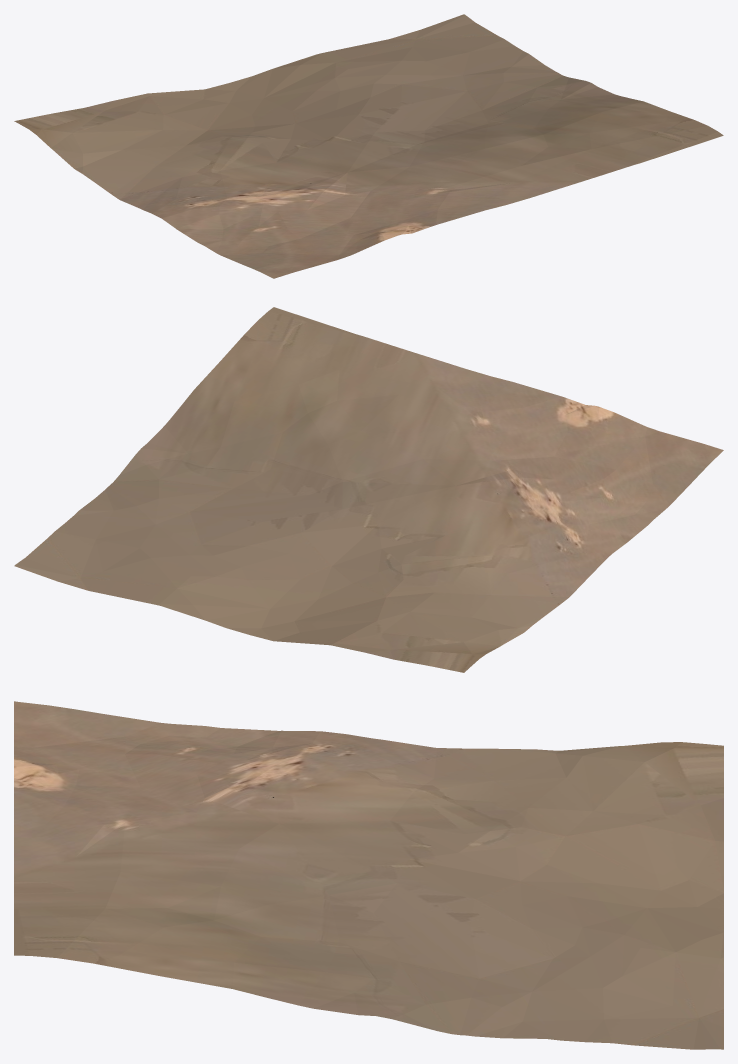
The picture shows the model from 3 angles, top to bottom: view 1: azimuth 30°, elevation 25°; view 2: azimuth 150°, elevation 25°; view 3: azimuth 270°, elevation 25°; orthographic projection. The views are drawn at different scales.
Size of the model in its own units: 1.04 by 0.179 by 1.04.
2 materials, 2 textured.
